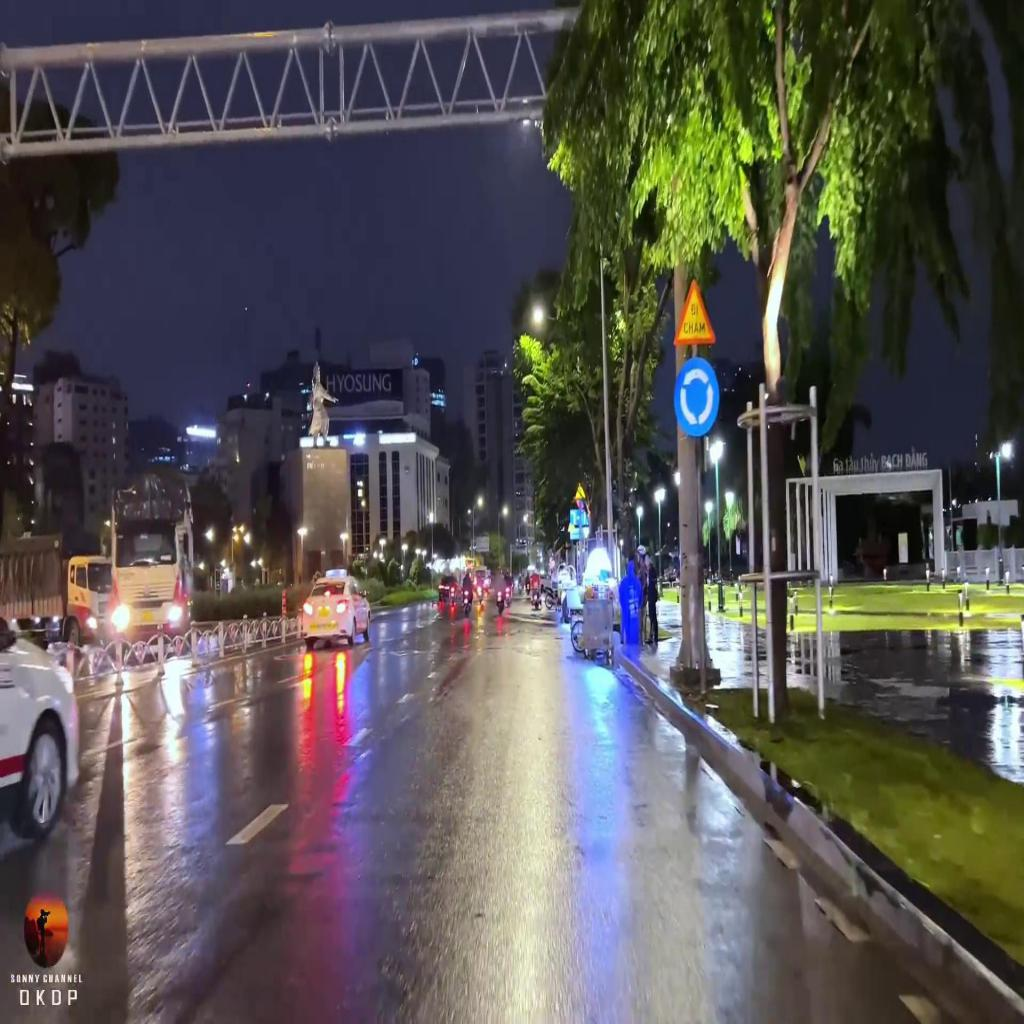di_cham: (672, 277, 717, 345)
noi_giao_nhau_chay_theo_vong: (674, 357, 720, 437)
